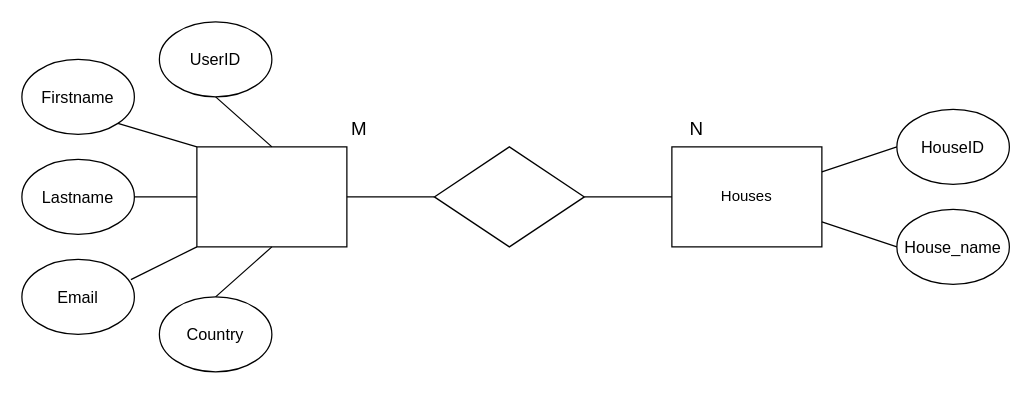
The diagram is 1031 pixels wide and 394 high, and some of its shapes have lost their labels. The shapes that lost their labels are listed below. From the top down, each one's centre as x and y in pixels, then its label:
(271,196): Users
(508,196): Vote
